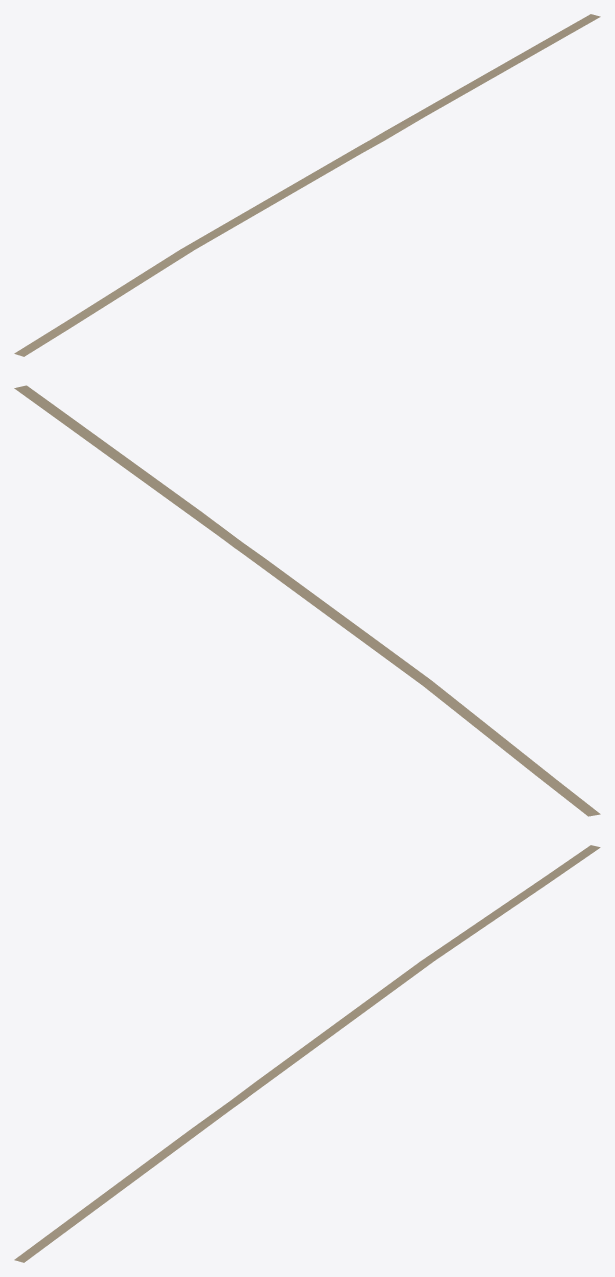
File: farm_8_8_track.glb
3 renders of one model, top to bottom at view 1: azimuth 90°, elevation 25°; view 2: azimuth 150°, elevation 25°; view 3: azimuth 270°, elevation 25°, orthographic. The views are drawn at different scales.
Parts seen in each view (by area): view 1: geometry_0; view 2: geometry_0; view 3: geometry_0.
Boxes of the visible parts, box(x1,y1,x2,y2) form: geometry_0: box(14, 14, 600, 356); geometry_0: box(14, 385, 600, 816); geometry_0: box(14, 845, 600, 1262).
Bounding box in the file's own units: 245 × 11.41 × 160.
